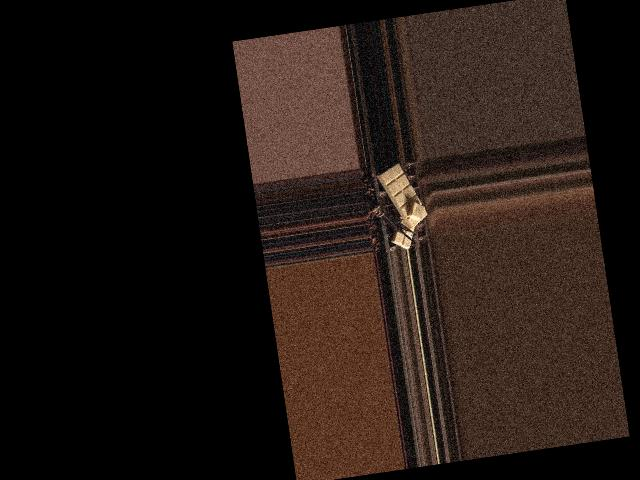chocolate: (377, 161, 429, 234)
